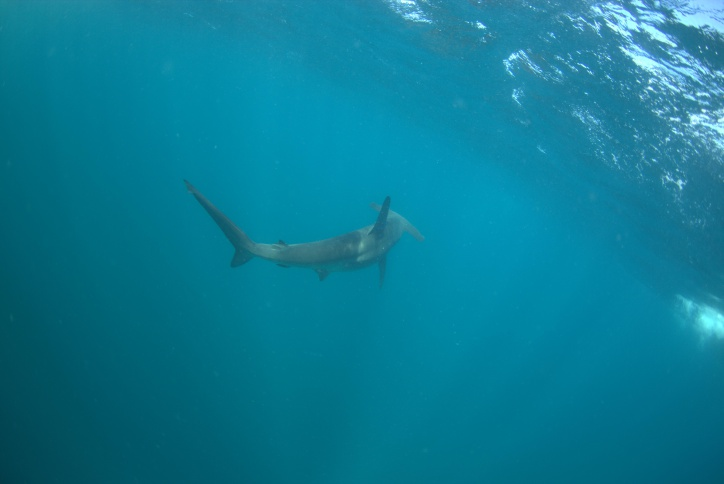Hammer: (84, 245, 376, 390), (173, 161, 441, 292)
